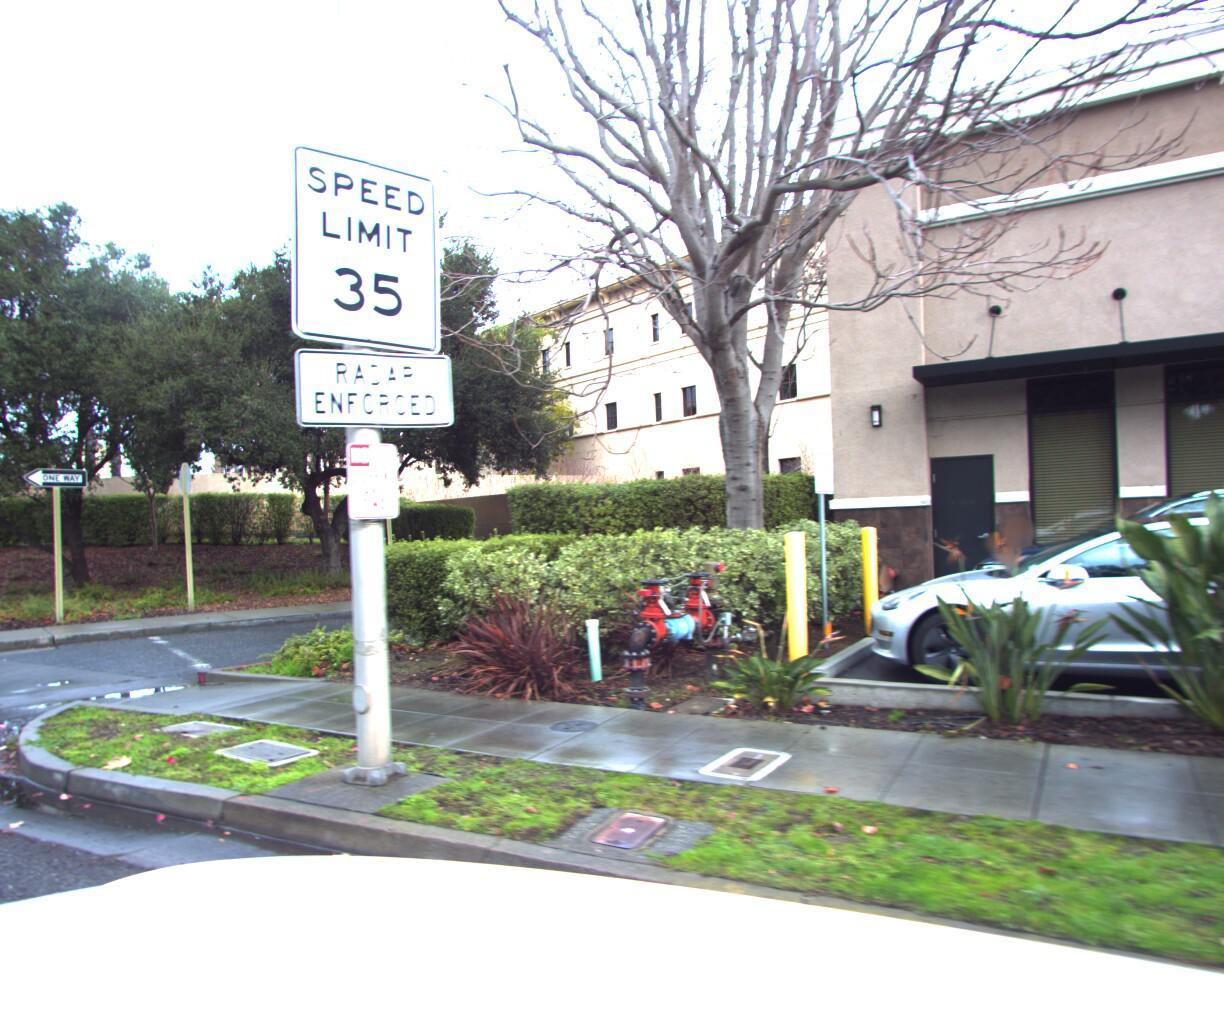car: (829, 484, 1224, 726), (942, 467, 1224, 664)
